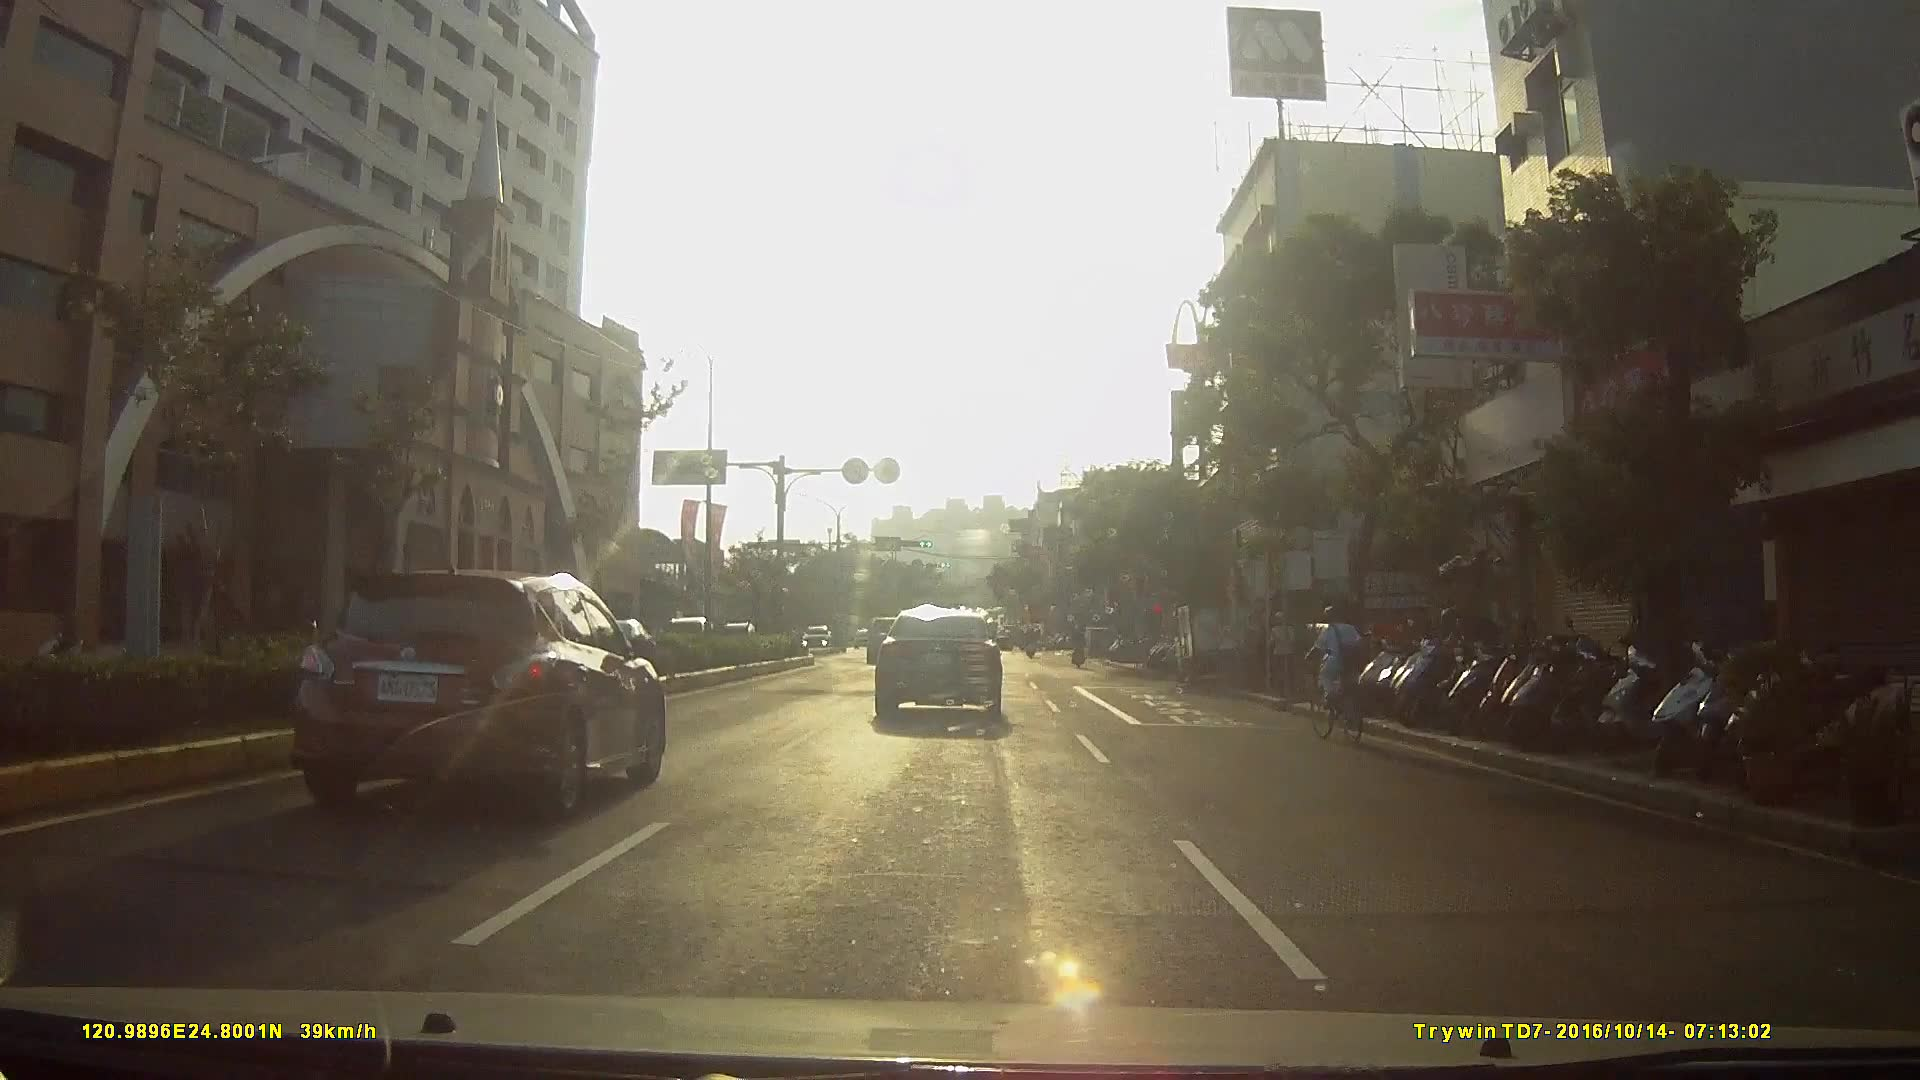pedestrian: (1268, 615, 1302, 703)
rider: (1308, 607, 1377, 745)
vehicle: (282, 563, 675, 821), (868, 607, 1017, 733), (1170, 599, 1256, 686), (763, 607, 822, 662), (790, 622, 840, 659)
